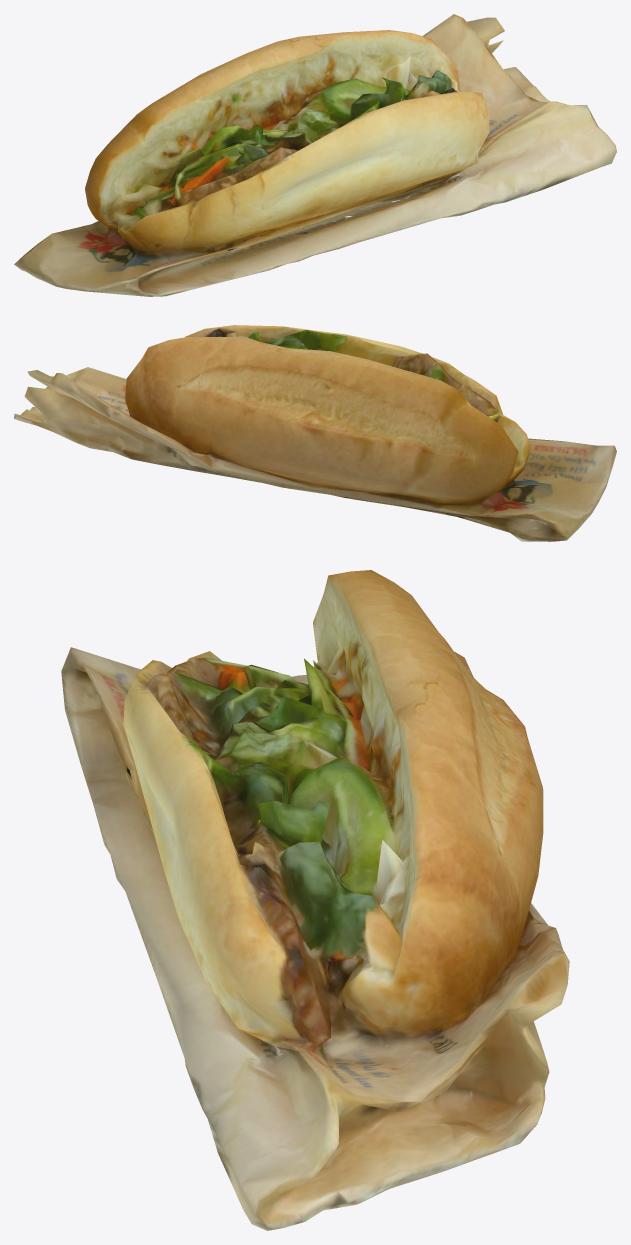
File: banhmi.glb
3 views of the same model, one above another, from view 1: azimuth 30°, elevation 25°; view 2: azimuth 150°, elevation 25°; view 3: azimuth 270°, elevation 25° (orthographic). The views are drawn at different scales.
Parts seen in each view (by area): view 1: Banh_Mi; view 2: Banh_Mi; view 3: Banh_Mi.
Part boxes in pixels (<box>): Banh_Mi: <box>14,14,616,296</box>; Banh_Mi: <box>14,325,616,541</box>; Banh_Mi: <box>61,570,569,1230</box>.
Bounding box in the file's own units: 0.6683 × 0.1768 × 0.2738.
Materials: 1 (1 with a texture image).
